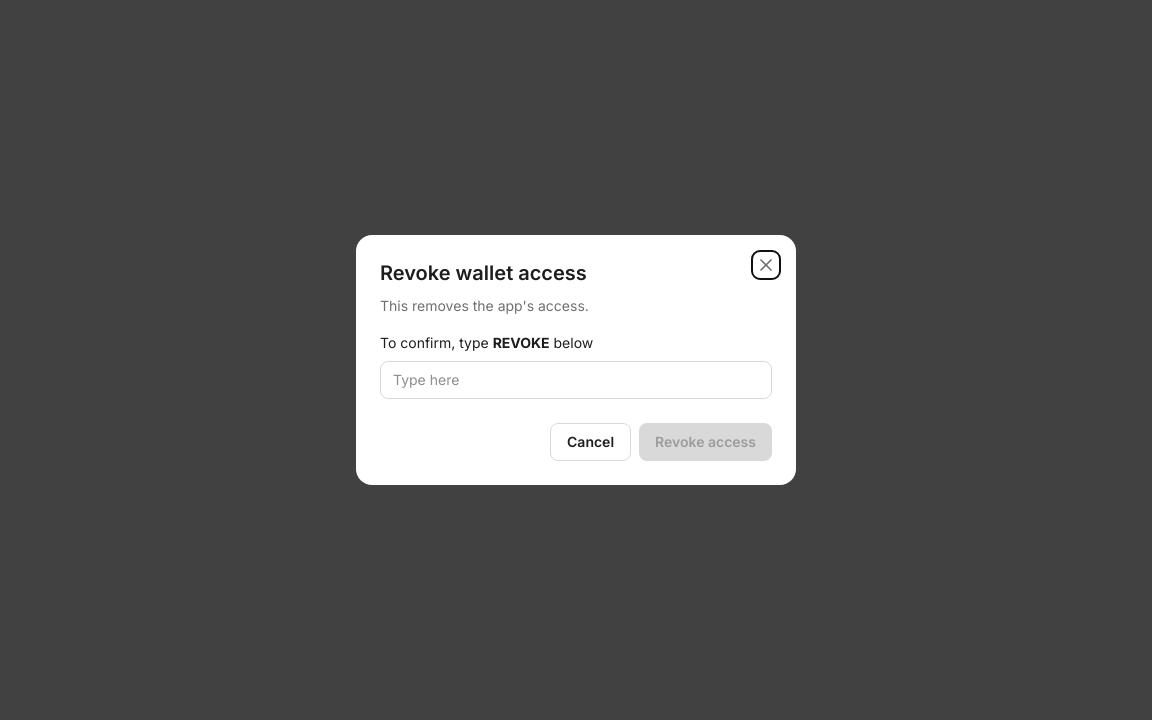
Test: a critical confirmation › ignores case, because the caps lock protects nobody
Type "revoke" into the field at {"x": 576, "y": 380}, box 380,361 -> 772,399
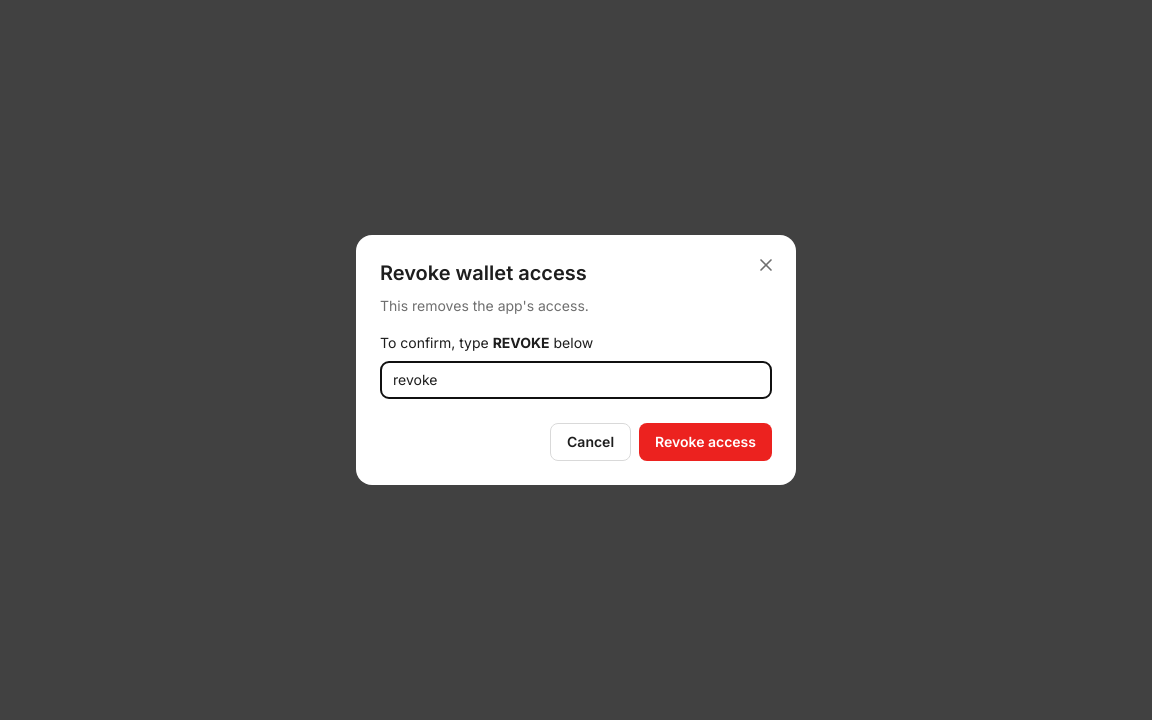
Check: the button "Revoke access" is enabled, box 639,423 -> 772,461
